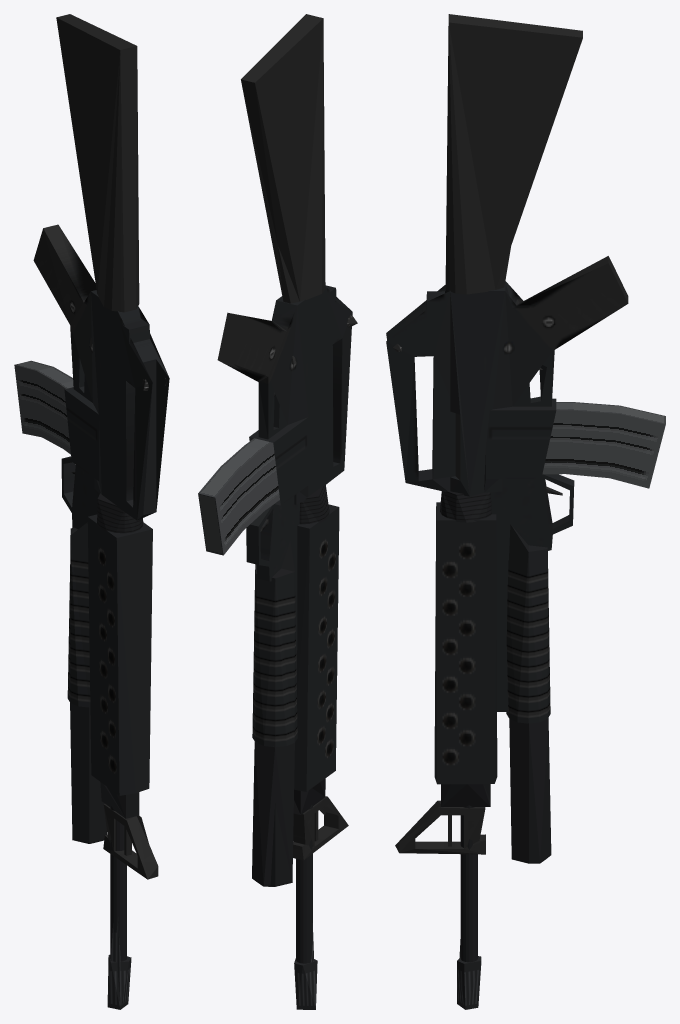
File: M16A524_wtf.obj
3 renders of one model, left to right at view 1: azimuth 30°, elevation 25°; view 2: azimuth 150°, elevation 25°; view 3: azimuth 270°, elevation 25°, orthographic. The views are drawn at different scales.
Parts seen in each view (by area): view 1: group2, group3; view 2: group2, group3; view 3: group2, group3.
Part boxes in pixels (box(x1,y1,x2,y2)): group2: box(33, 14, 169, 1009); group3: box(14, 360, 73, 454); group2: box(217, 14, 357, 1009); group3: box(198, 438, 279, 555); group2: box(386, 14, 628, 1009); group3: box(542, 402, 665, 488).
Size of the model in its own units: 28.19 by 660 by 169.
